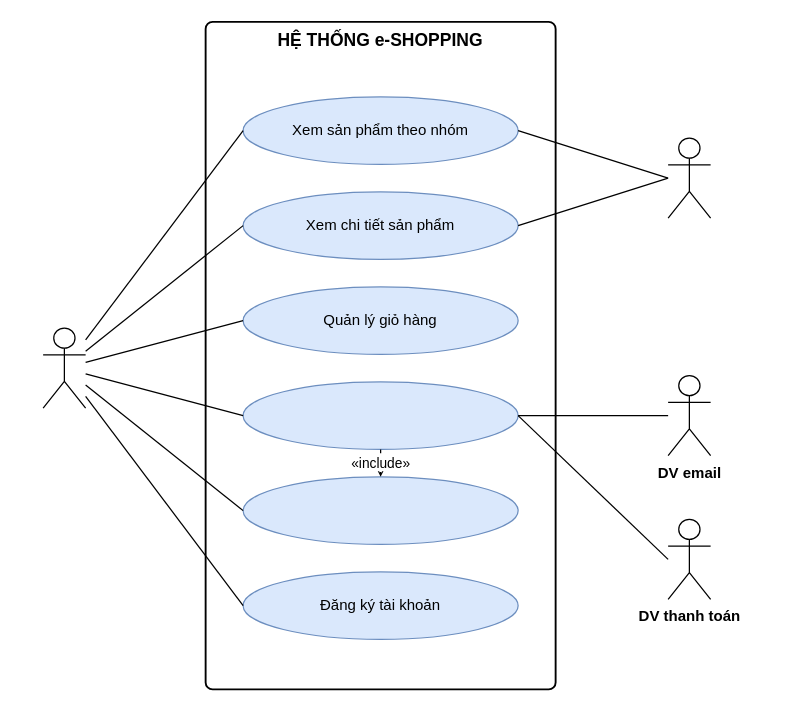
Image size: 786x713. Some labels were removed from this diagram. Here are the shapes that lost their labels. From the top down, the centre of each, then its label:
At (x=689, y=177): "HT quản lý sản phẩm".
At (x=64, y=367): "Khách hàng".
At (x=380, y=415): "Đặt hàng – tính tiền".
At (x=380, y=510): "Đăng nhập".
